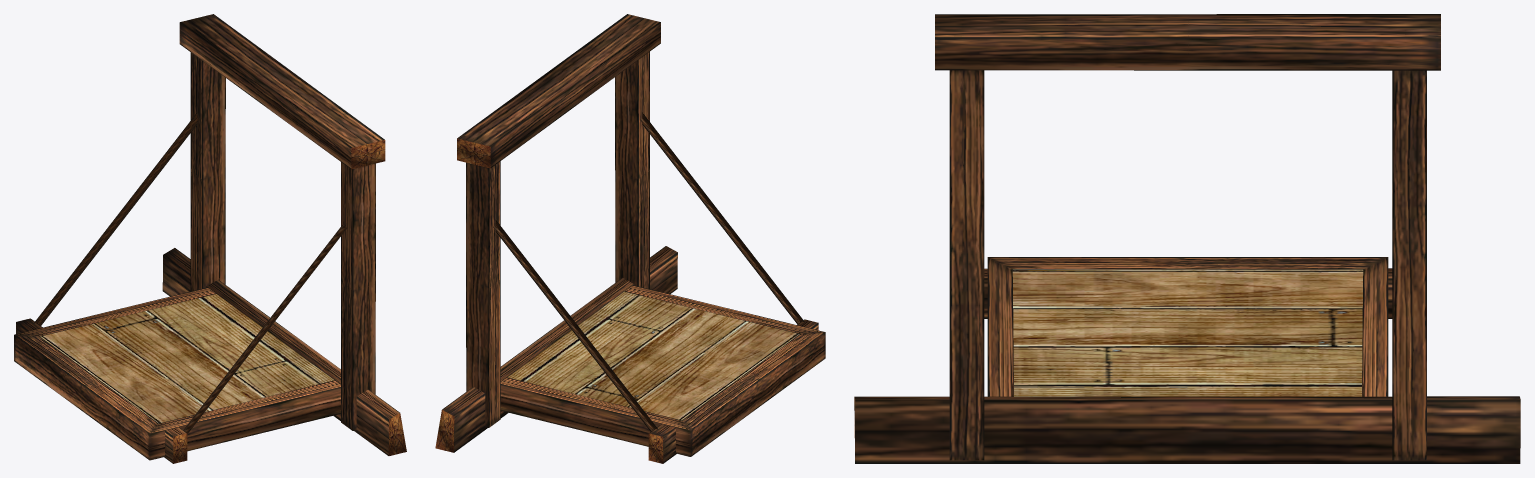
Rendered from LAKETOWN_WAREHOUSE2_PS_WH2_PLAT_74746__GX.fbx.
3 renders of one model, left to right at view 1: azimuth 30°, elevation 25°; view 2: azimuth 150°, elevation 25°; view 3: azimuth 270°, elevation 25°, orthographic. The views are drawn at different scales.
Parts seen in each view (by area): view 1: LAKETOWN_WAREHOUSE2_PS_WH2_PLAT_74746__GX; view 2: LAKETOWN_WAREHOUSE2_PS_WH2_PLAT_74746__GX; view 3: LAKETOWN_WAREHOUSE2_PS_WH2_PLAT_74746__GX.
Part boxes in pixels (x1,y1,x2,y2): LAKETOWN_WAREHOUSE2_PS_WH2_PLAT_74746__GX: (14, 14, 406, 463); LAKETOWN_WAREHOUSE2_PS_WH2_PLAT_74746__GX: (435, 14, 825, 463); LAKETOWN_WAREHOUSE2_PS_WH2_PLAT_74746__GX: (854, 14, 1520, 463).
Size of the model in its own units: 18506 by 23668 by 33287.
Materials: 5 (5 with a texture image).
